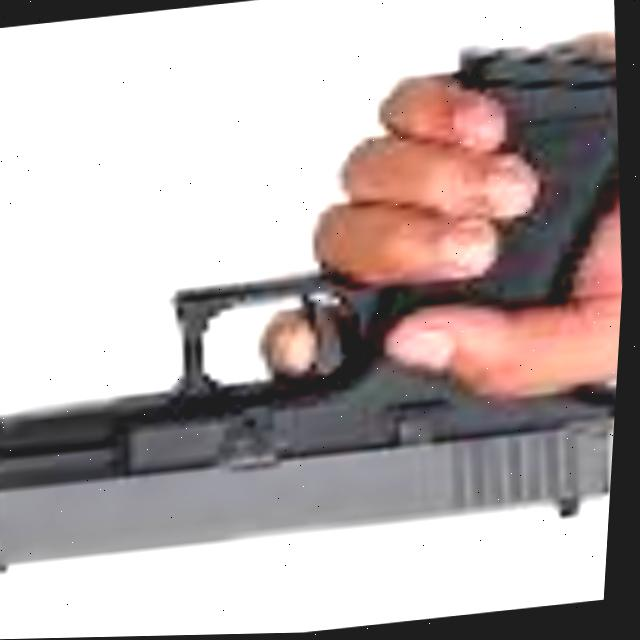pistol: (0, 6, 639, 591)
